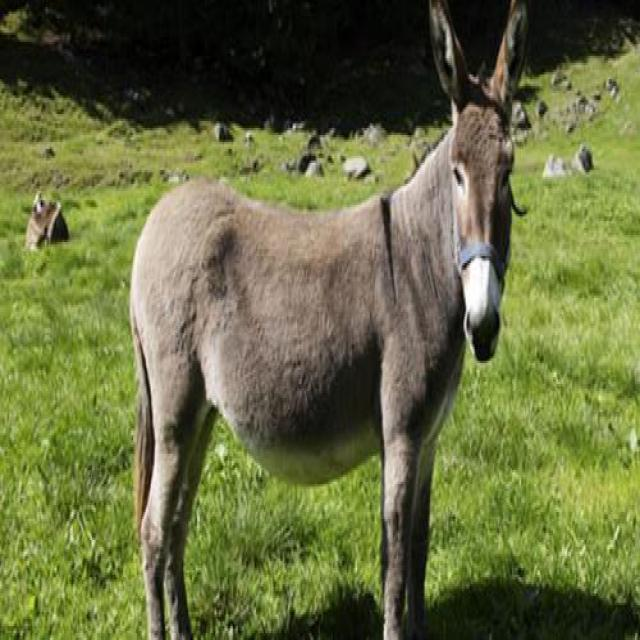Donkey: (128, 0, 529, 640)
